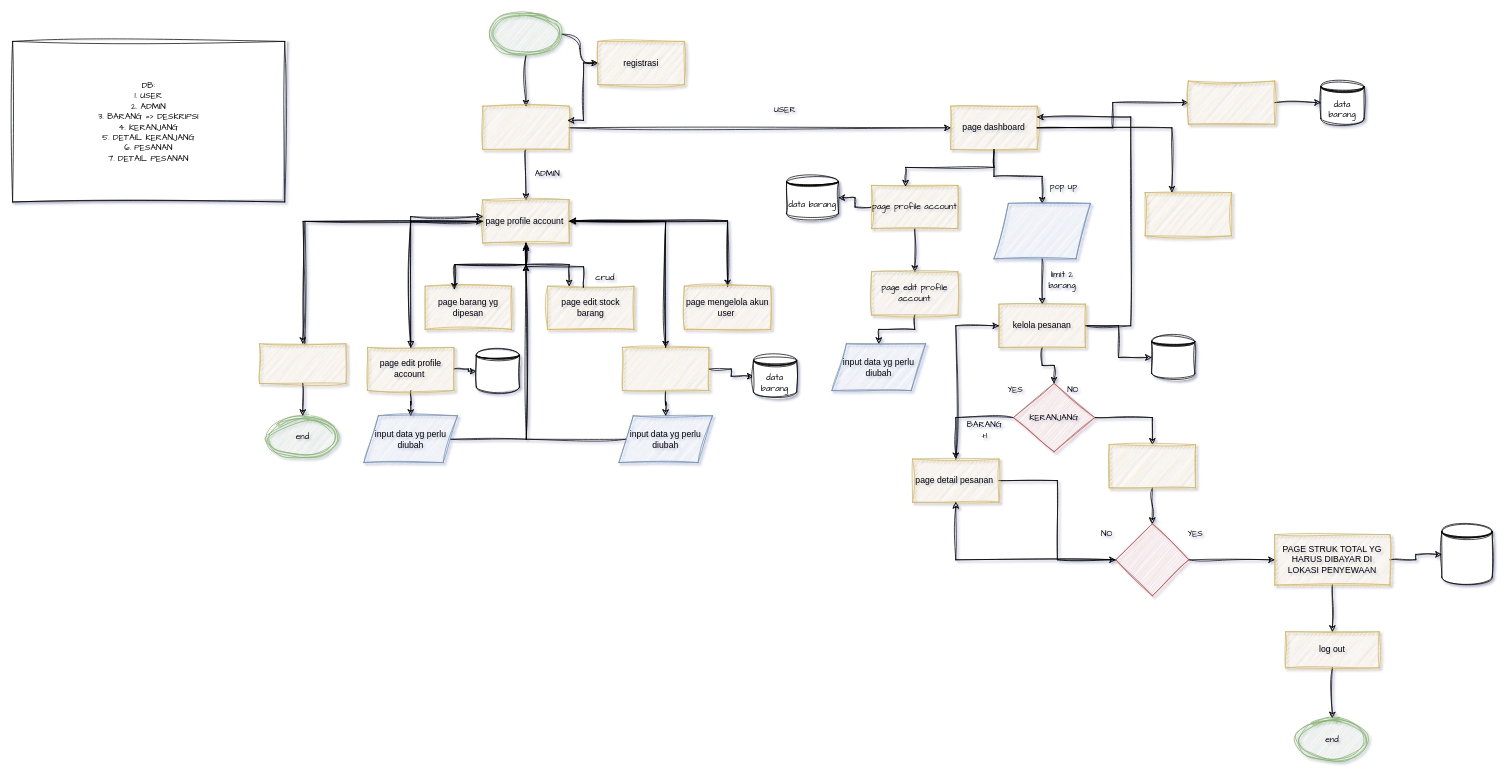
The diagram is 1509 pixels wide and 778 high, and some of its shapes have lost their labels. Each missing label, with the centre of its shape:
CO: (x=1152, y=466)
daftar barang: (x=1173, y=357)
data dari pesanan: (x=1466, y=554)
data diri: (x=497, y=371)
deskripsi penggunaan: (x=1231, y=102)
detail pemesanan. quantity, harga, tgl penyewaan,: (x=1041, y=231)
login: (x=525, y=127)
logout: (x=302, y=363)
page deskripsi barang yg akan disewakan: (x=1188, y=214)
page edit deskripsi barang: (x=665, y=369)
PEMBAYARAN: (x=1152, y=559)
start: (x=525, y=34)
